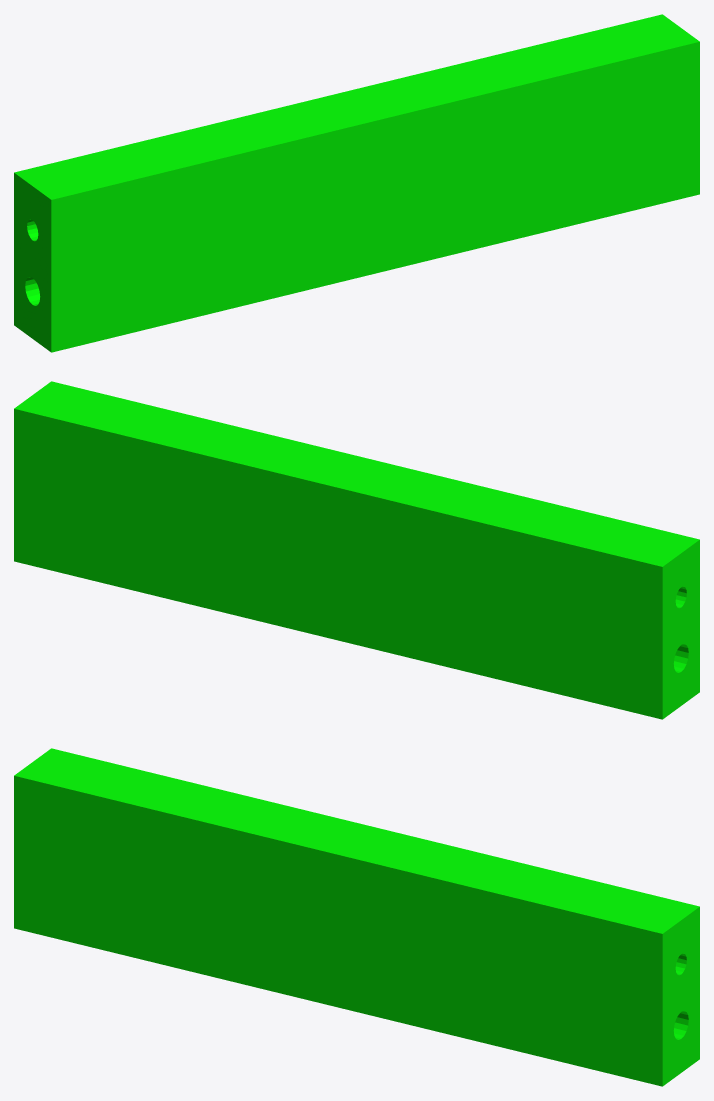
The model's file is ryggtopp_correct.obj.
The picture shows the model from 3 angles, top to bottom: view 1: azimuth 30°, elevation 25°; view 2: azimuth 150°, elevation 25°; view 3: azimuth 330°, elevation 25°; orthographic projection.
Bounding box in the file's own units: 200 × 45 × 20.
